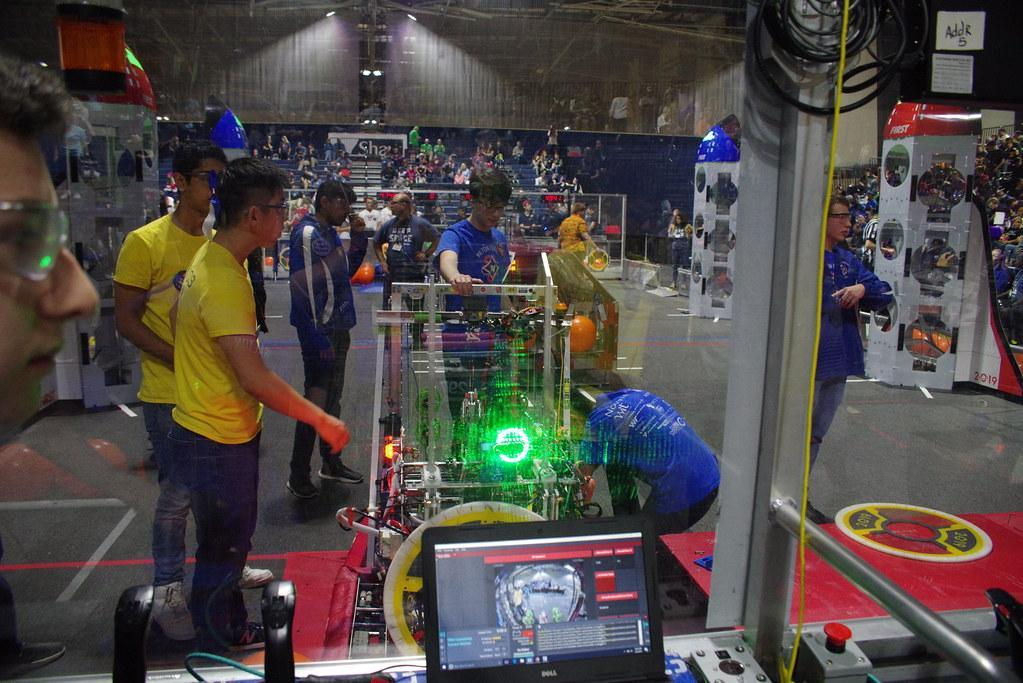robot: (326, 248, 675, 683)
